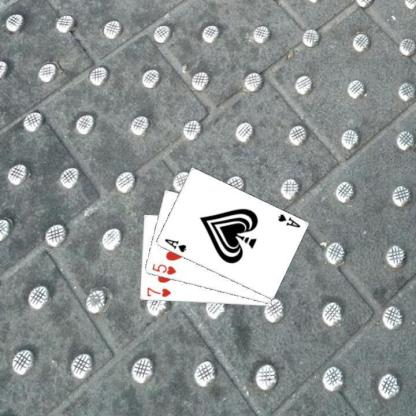5H: (150, 261, 177, 276)
7H: (144, 285, 172, 298)
AS: (275, 211, 302, 229), (162, 236, 187, 254)
